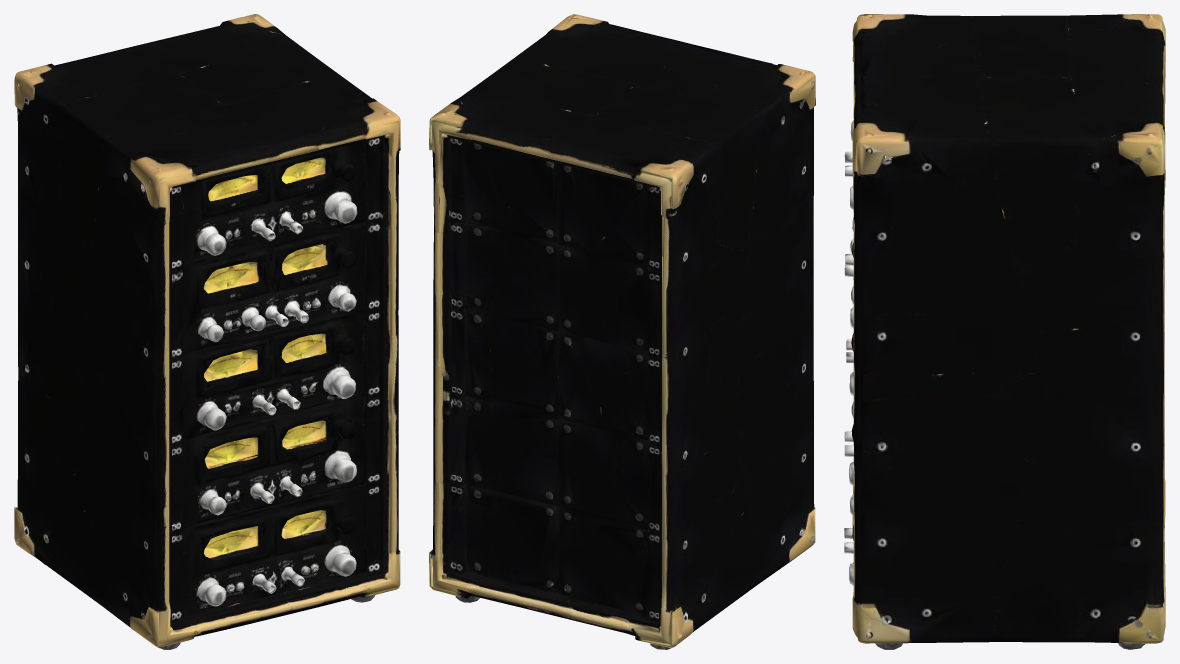
Rendered from rack.glb.
3 views of the same model, side by side, from view 1: azimuth 30°, elevation 25°; view 2: azimuth 150°, elevation 25°; view 3: azimuth 270°, elevation 25° (orthographic). The views are drawn at different scales.
Bounding box in the file's own units: 1.01 × 1.9 × 1.06.
1 material, 1 textured.
